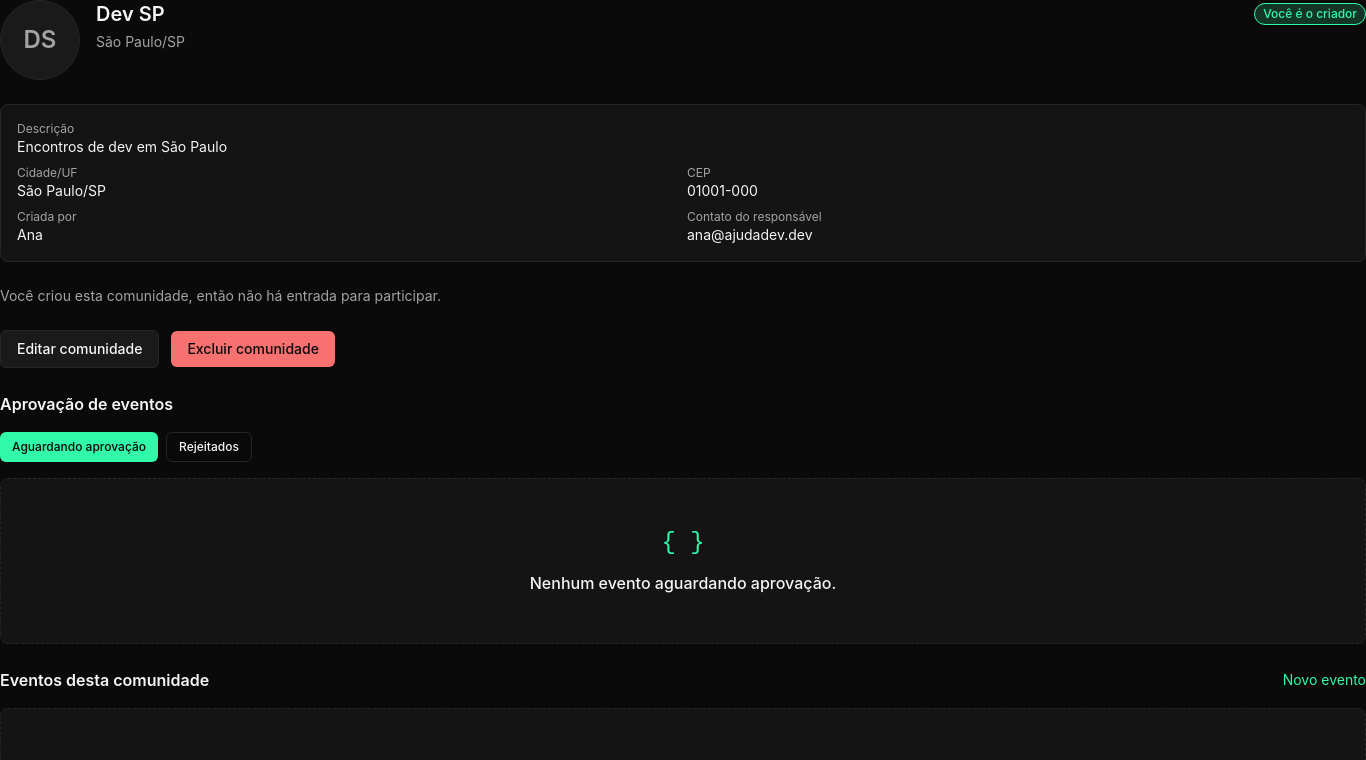
Test case: CommunityDetailPage › 400 com membros ativos mostra a causa e permanece na página
Click the button "Excluir comunidade".
click(253, 349)  # box [171,331,335,367]
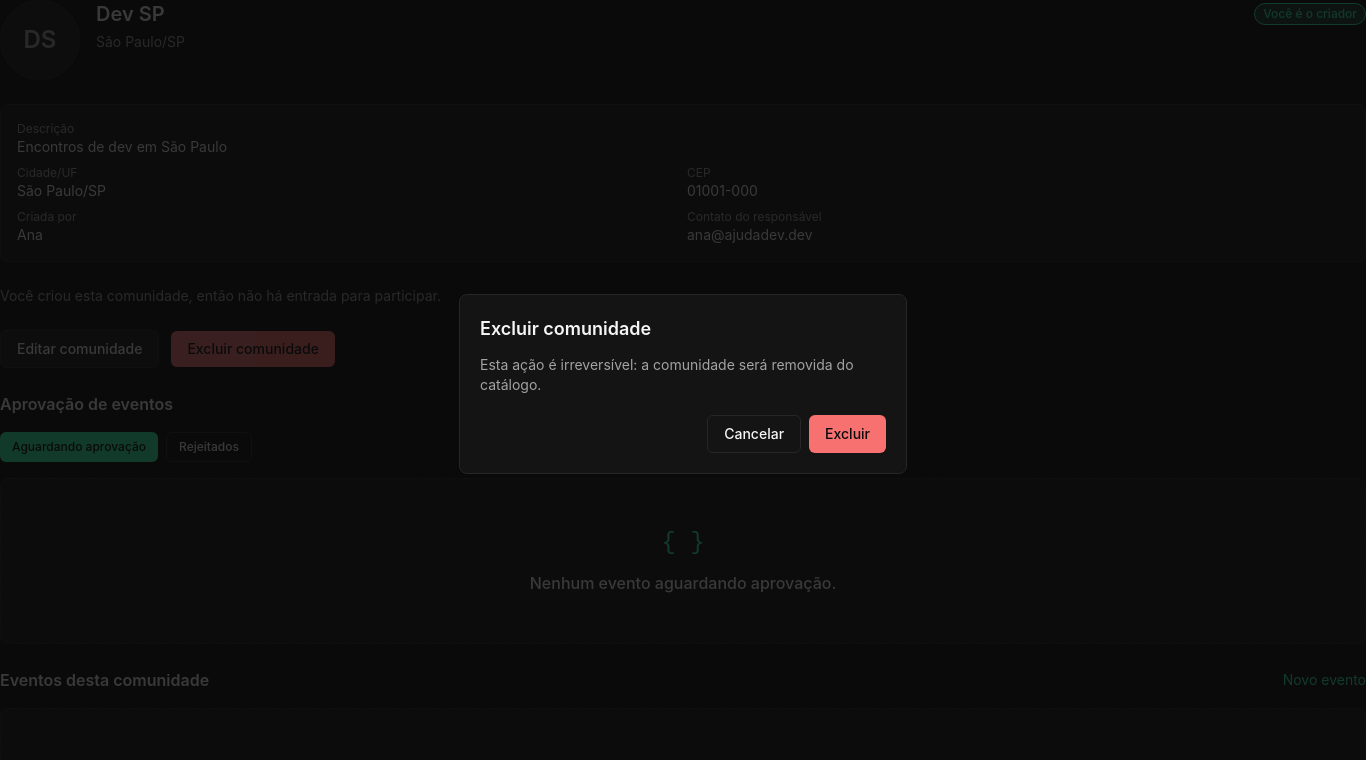
Click the button "Excluir".
click(848, 434)  # box [809,415,886,453]
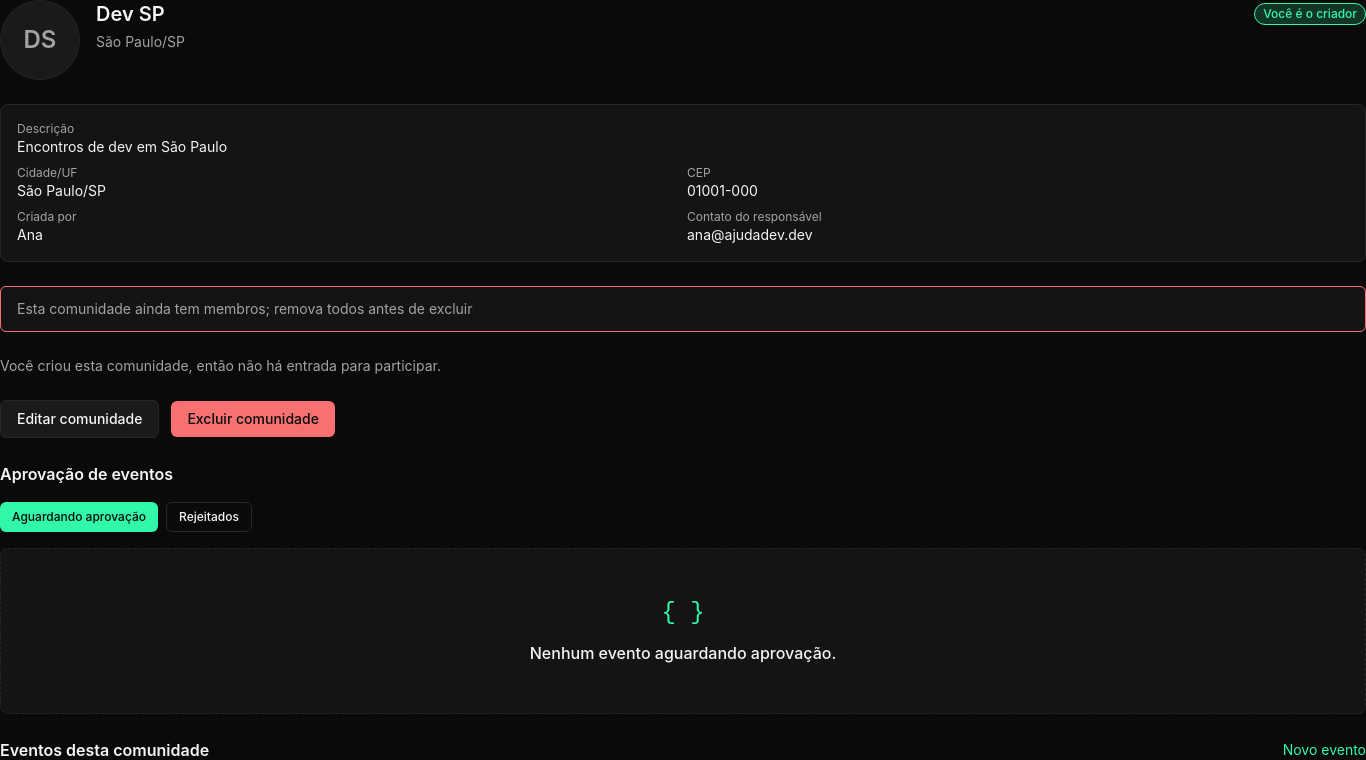
Check: the heading "Dev SP" is shown, box [96,0,165,28]
Check: the text "Esta comunidade ainda tem membros; remova todos antes de excluir" is shown, box [17,300,472,317]
